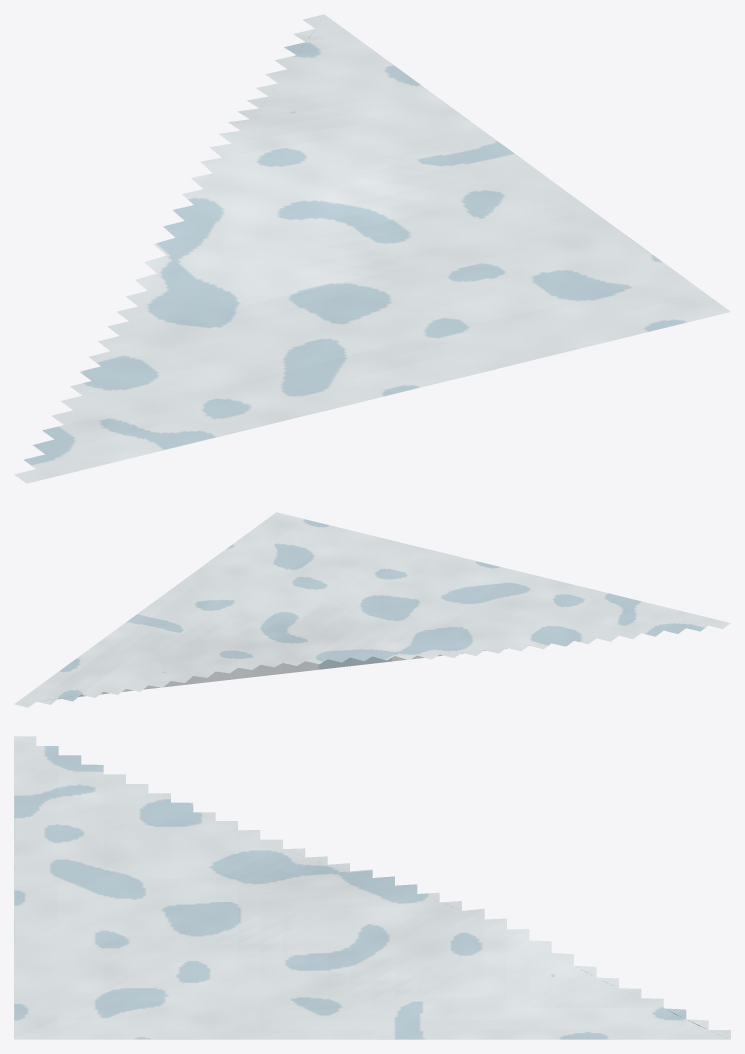
The model's file is Snow_Flat_06_NE.obj.
The picture shows the model from 3 angles, top to bottom: view 1: azimuth 30°, elevation 25°; view 2: azimuth 150°, elevation 25°; view 3: azimuth 270°, elevation 25°; orthographic projection. The views are drawn at different scales.
Bounding box in the file's own units: 10 × 0.2636 × 10.
1 material, 1 textured.
